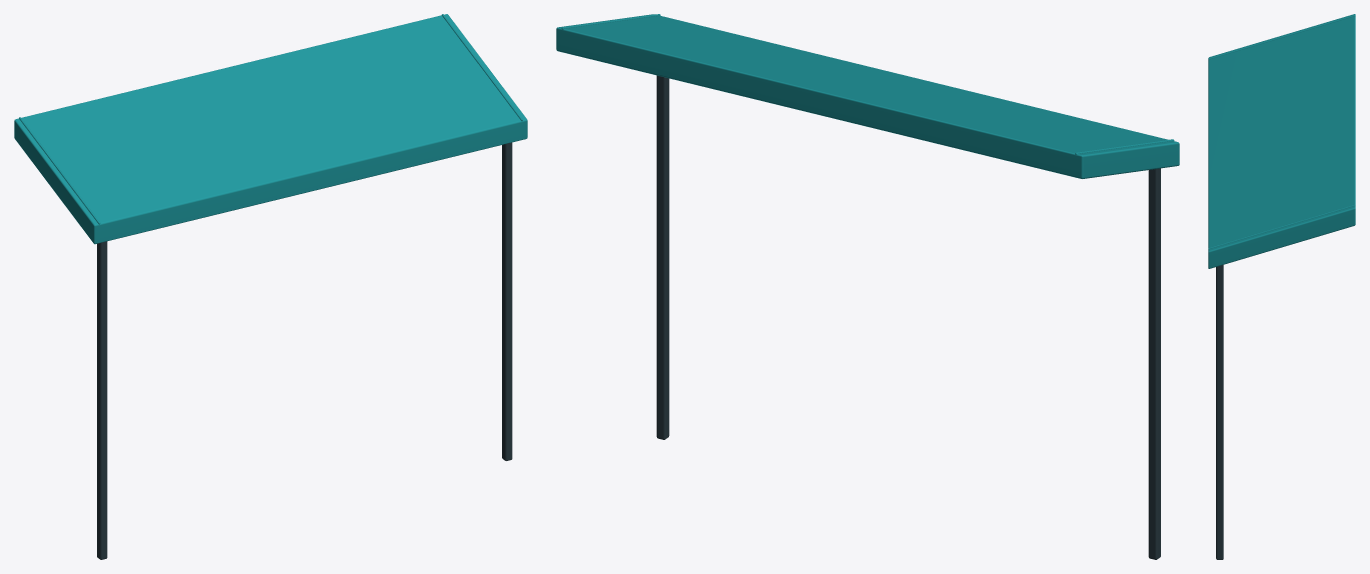
File: Awning_4m.fbx
The picture shows the model from 3 angles, left to right: view 1: azimuth 30°, elevation 25°; view 2: azimuth 150°, elevation 25°; view 3: azimuth 270°, elevation 25°; orthographic projection. The views are drawn at different scales.
Visible parts, largest first — view 1: Awning_4m.001; view 2: Awning_4m.001; view 3: Awning_4m.001.
Part boxes in pixels (bbox=[...]): Awning_4m.001: bbox=[14, 14, 527, 559]; Awning_4m.001: bbox=[556, 14, 1179, 559]; Awning_4m.001: bbox=[1208, 14, 1355, 559].
Bounding box in the file's own units: 3.9 × 3.35 × 1.25.
